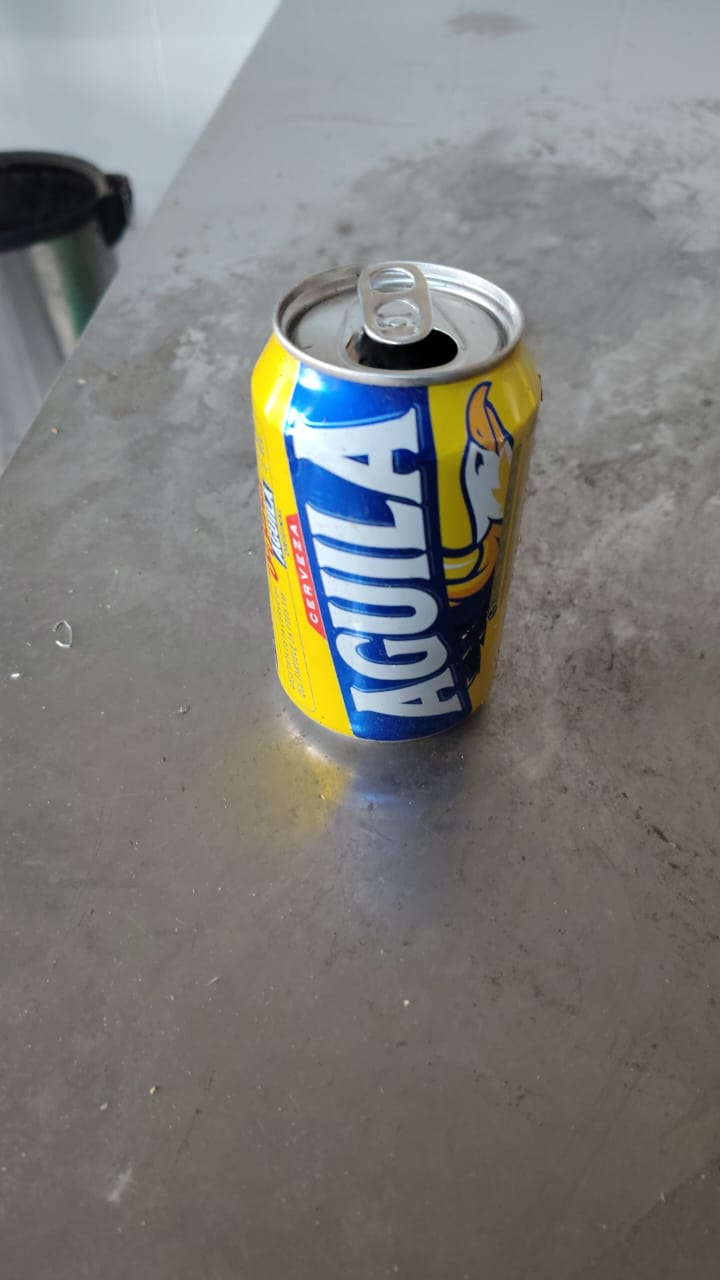Metal: (246, 257, 534, 744)
